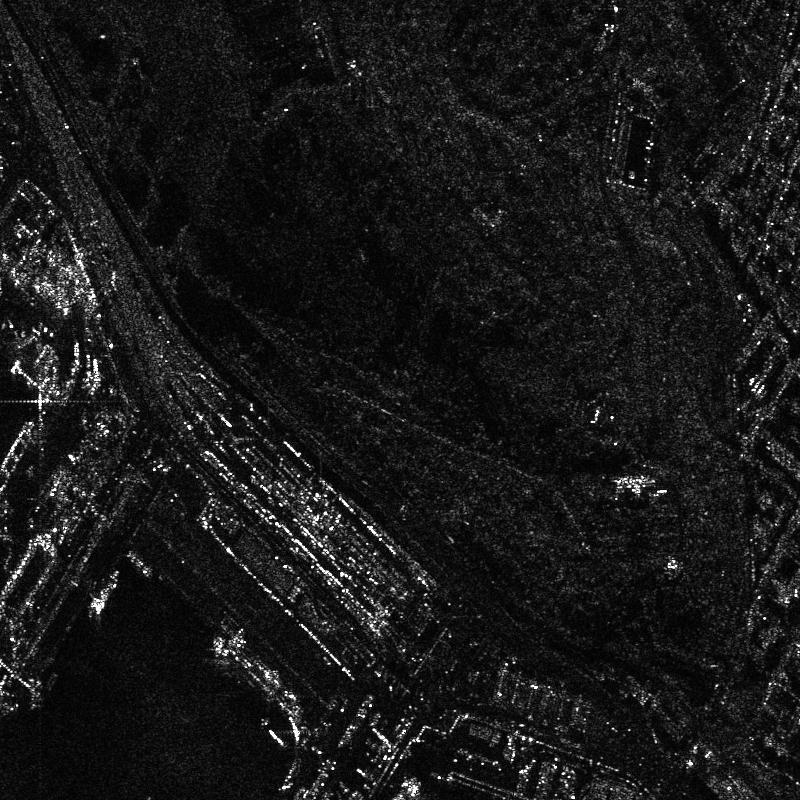ship: (227, 639, 304, 721), (0, 422, 36, 496), (90, 570, 119, 614), (10, 365, 38, 389), (127, 551, 151, 575), (268, 729, 282, 744)
